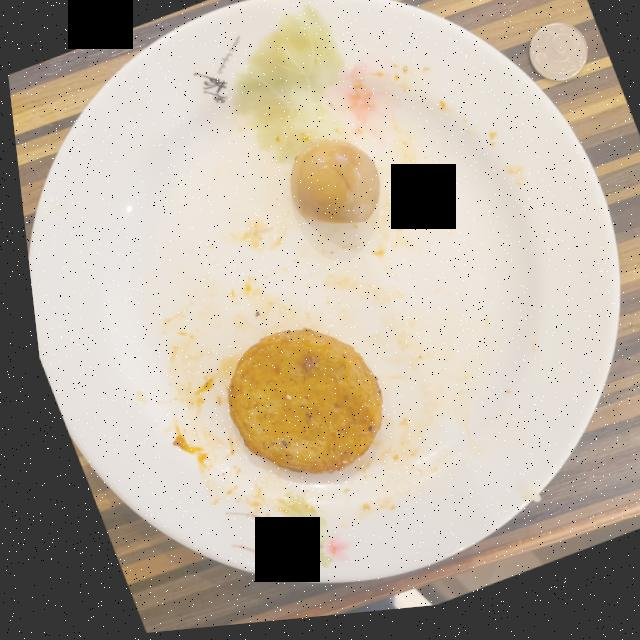coin: (526, 33, 584, 92)
fish cake: (217, 333, 371, 479)
soy egg: (284, 145, 374, 230)
